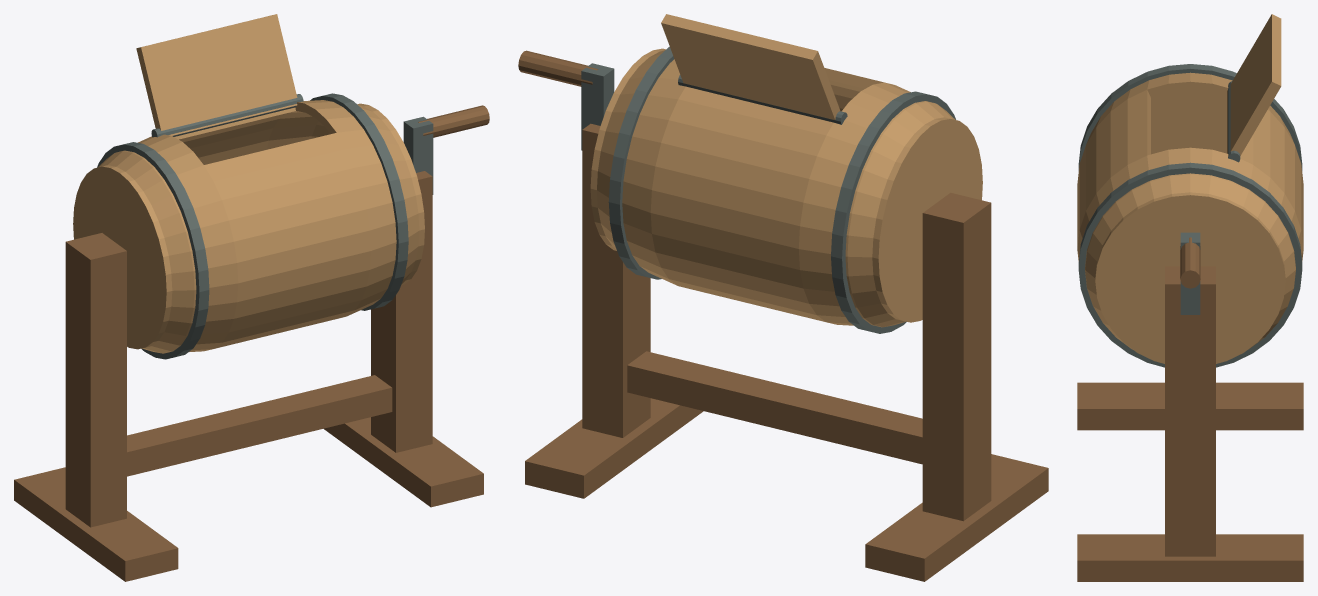
3 views of the same model, side by side, from view 1: azimuth 30°, elevation 25°; view 2: azimuth 150°, elevation 25°; view 3: azimuth 270°, elevation 25° (orthographic). The views are drawn at different scales.
Visible parts, largest first — view 1: WholeBilgedBarrelWithBoundedTopHatch, WholeEndBearingPostL, WholeRaisedAccessLid, WholeLowerLongitudinalFrameTie, WholeEndBearingPostR, WholeClosedBarrelEndHeadL, WholeTransverseFrameFootL, WholeTransverseFrameFootR, WholeBarrelIronHoopL, WholeBarrelIronHoopR, WholeOffsetSideCrankArm, WholeAccessLidFixedHinge (+2 smaller); view 2: WholeBilgedBarrelWithBoundedTopHatch, WholeEndBearingPostL, WholeLowerLongitudinalFrameTie, WholeEndBearingPostR, WholeClosedBarrelEndHeadL, WholeRaisedAccessLid, WholeTransverseFrameFootL, WholeTransverseFrameFootR, WholeBarrelIronHoopL, WholeBarrelIronHoopR, WholeOffsetSideCrankArm, WholeOutwardCrankWoodGrip (+2 smaller); view 3: WholeClosedBarrelEndHeadR, WholeBilgedBarrelWithBoundedTopHatch, WholeEndBearingPostR, WholeTransverseFrameFootR, WholeTransverseFrameFootL, WholeBarrelIronHoopR, WholeRaisedAccessLid, WholeClosedBarrelEndHeadL, WholeBarrelIronHoopL, WholeOutwardCrankWoodGrip, WholeOffsetSideCrankArm, WholeAccessLidFixedHinge.
Part boxes in pixels (x1,y1,x2,y2): WholeBilgedBarrelWithBoundedTopHatch: (98,100,419,353); WholeEndBearingPostL: (65,233,126,527); WholeRaisedAccessLid: (136,14,297,135); WholeLowerLongitudinalFrameTie: (127,375,392,476); WholeEndBearingPostR: (371,171,432,452); WholeClosedBarrelEndHeadL: (73,165,172,349); WholeTransverseFrameFootL: (14,467,178,581); WholeTransverseFrameFootR: (323,417,483,507); WholeBarrelIronHoopL: (97,142,209,359); WholeBarrelIronHoopR: (310,93,408,310); WholeOffsetSideCrankArm: (403,116,433,194); WholeAccessLidFixedHinge: (151,94,303,137); WholeBilgedBarrelWithBoundedTopHatch: (597,50,955,327); WholeEndBearingPostL: (922,192,991,521); WholeLowerLongitudinalFrameTie: (627,351,922,464); WholeEndBearingPostR: (582,123,650,437); WholeClosedBarrelEndHeadL: (872,117,982,322); WholeRaisedAccessLid: (661,14,840,119); WholeTransverseFrameFootL: (865,454,1048,581); WholeTransverseFrameFootR: (525,398,703,498); WholeBarrelIronHoopL: (831,91,955,333); WholeBarrelIronHoopR: (608,46,674,279); WholeOffsetSideCrankArm: (581,63,614,150); WholeOutwardCrankWoodGrip: (518,50,598,86); WholeClosedBarrelEndHeadR: (1095,192,1285,363); WholeBilgedBarrelWithBoundedTopHatch: (1077,72,1303,349); WholeEndBearingPostR: (1165,266,1215,556); WholeTransverseFrameFootR: (1077,534,1303,581); WholeTransverseFrameFootL: (1077,382,1303,430); WholeBarrelIronHoopR: (1078,162,1302,367); WholeRaisedAccessLid: (1227,14,1281,155); WholeClosedBarrelEndHeadL: (1151,90,1226,154); WholeBarrelIronHoopL: (1078,64,1302,170); WholeOutwardCrankWoodGrip: (1180,237,1200,288); WholeOffsetSideCrankArm: (1180,232,1200,314); WholeAccessLidFixedHinge: (1228,81,1240,162).
Size of the model in its own units: 1.25 by 1.26 by 0.58.
